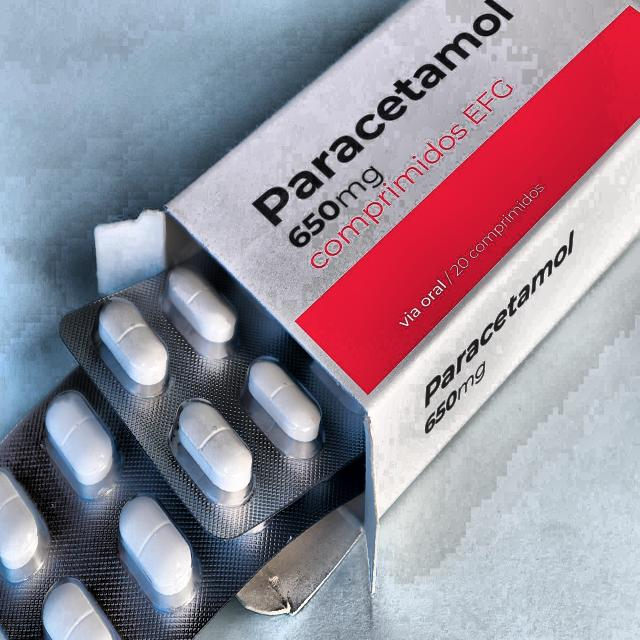Paracetamol: (212, 0, 523, 261)
